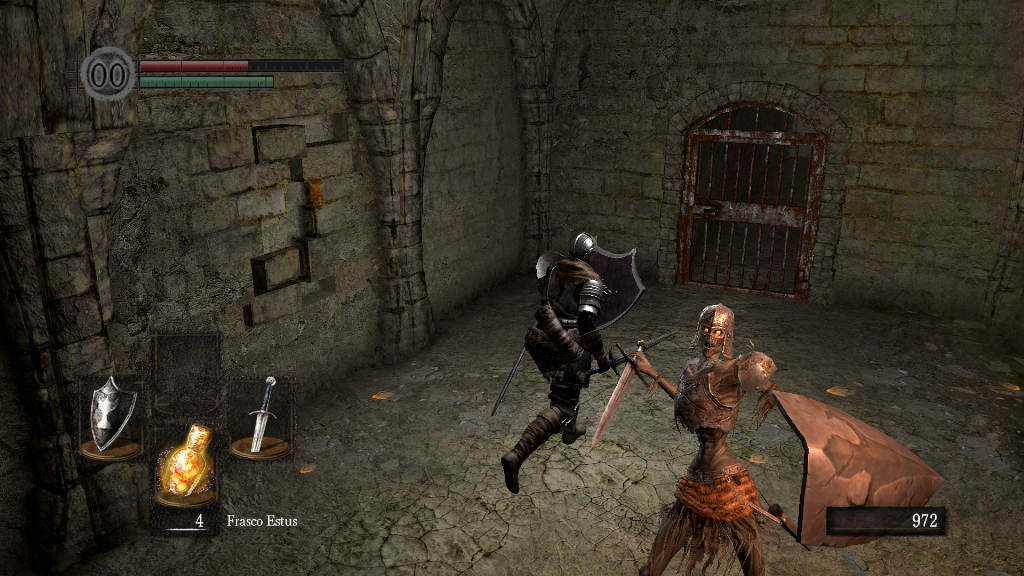health: (138, 58, 343, 71)
humanity: (80, 45, 136, 102)
player: (492, 229, 677, 498)
souls: (825, 506, 945, 536)
stamina: (138, 74, 274, 88)
undeadSoldier: (641, 302, 783, 576)
